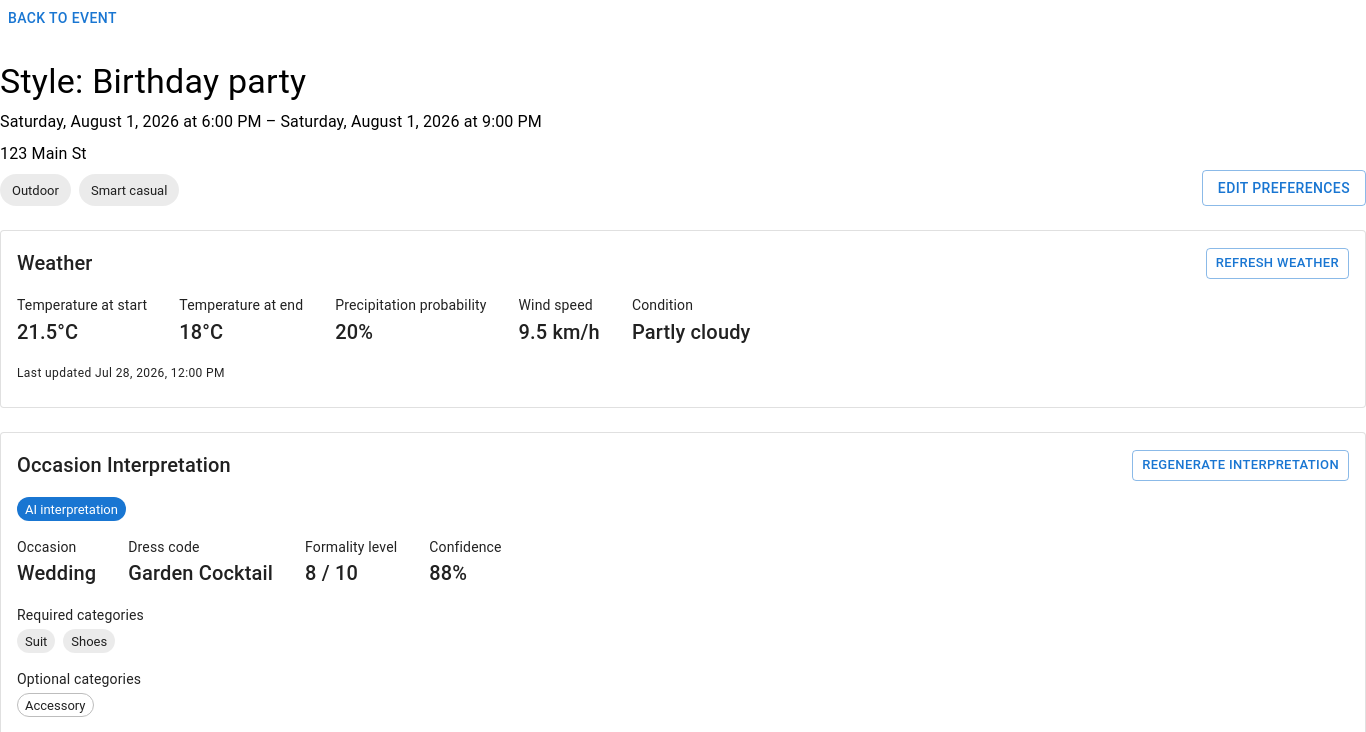
Test: EventStylePage › shows an "Edit preferences" action that opens the event setup modal on Step 2
Check: the heading "Style: Birthday party" is shown, box top-left (0, 60), bottom-right (306, 100)
Step 1. Click the button "Edit preferences" → (1284, 188), box top-left (1202, 170), bottom-right (1365, 206)
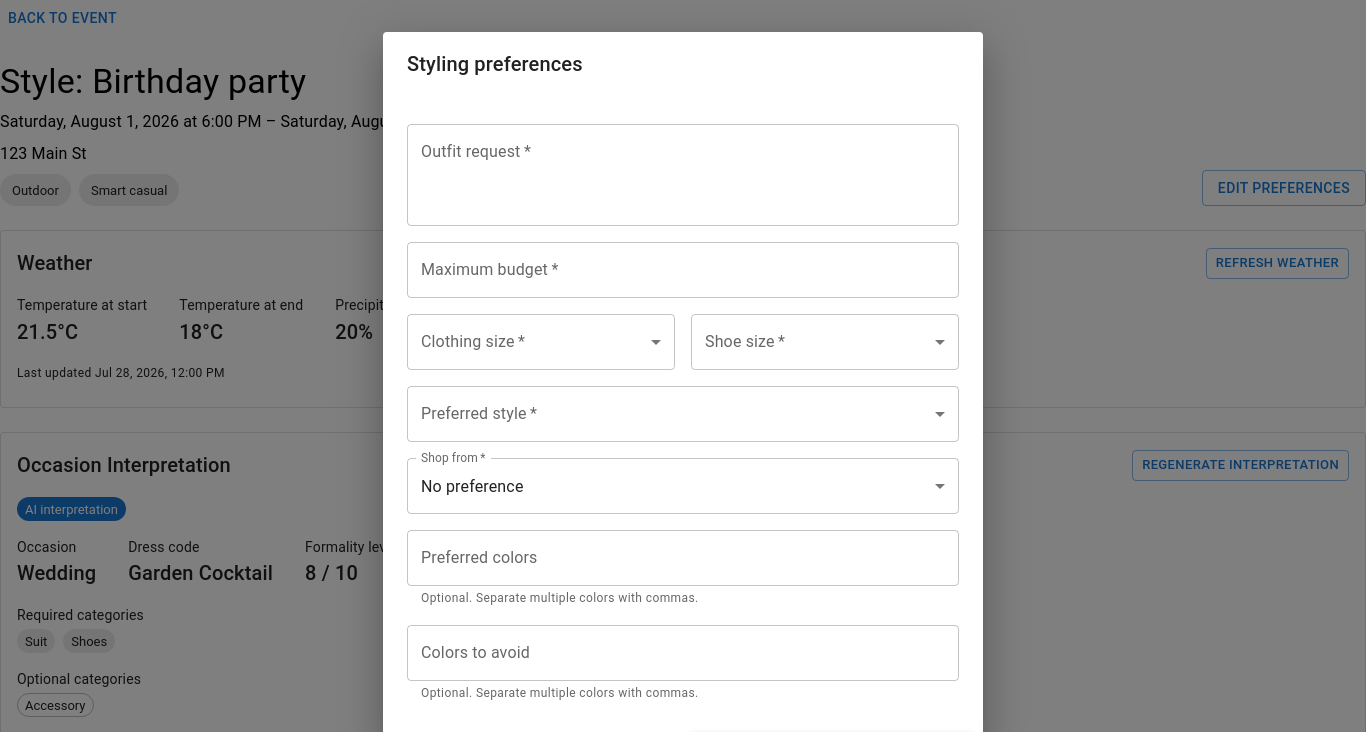
Check: the heading "Styling preferences" is shown, box top-left (407, 52), bottom-right (583, 76)
